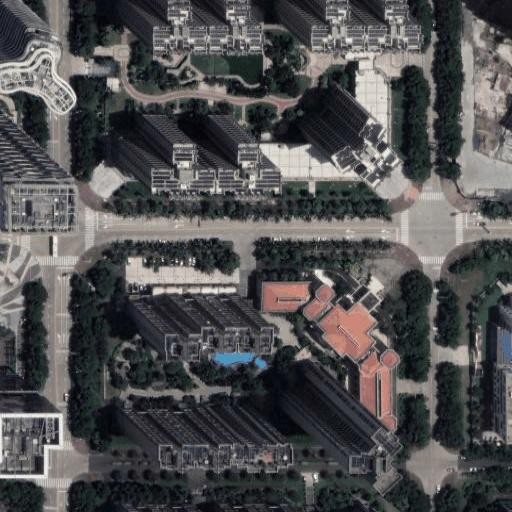building: (262, 282, 399, 454), (109, 129, 246, 178), (295, 106, 365, 171), (135, 406, 271, 437), (143, 310, 255, 345), (275, 366, 329, 436), (118, 0, 228, 29), (486, 357, 512, 434), (133, 492, 209, 512), (493, 298, 512, 353), (0, 118, 17, 168)
